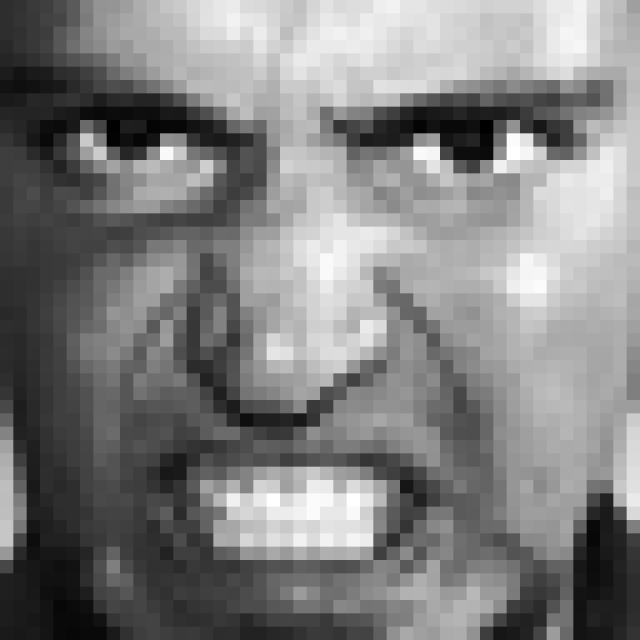angry: (25, 61, 617, 616)
